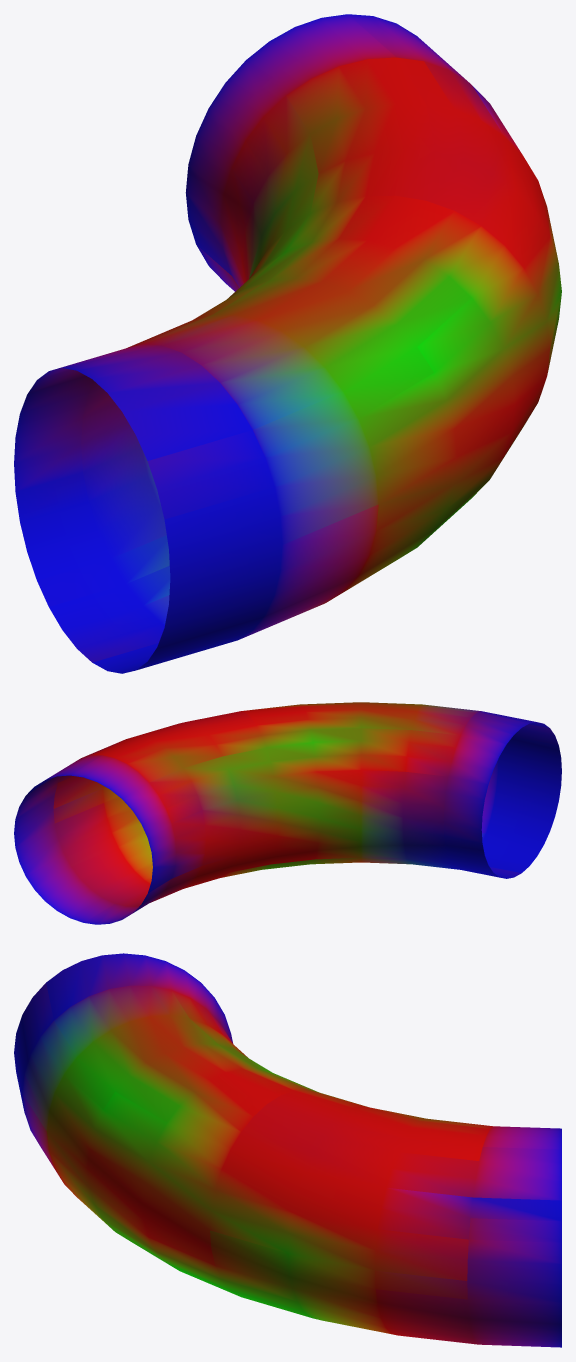
The model's file is PipeA_C_2.fbx.
3 views of the same model, one above another, from view 1: azimuth 30°, elevation 25°; view 2: azimuth 150°, elevation 25°; view 3: azimuth 270°, elevation 25° (orthographic). The views are drawn at different scales.
Parts seen in each view (by area): view 1: Circle.000; view 2: Circle.000; view 3: Circle.000.
Part boxes in pixels (bbox=[...]): Circle.000: bbox=[14, 14, 561, 673]; Circle.000: bbox=[14, 702, 561, 924]; Circle.000: bbox=[14, 953, 561, 1347].
Size of what is drawn, in the model's own units: 250 by 100 by 250.
